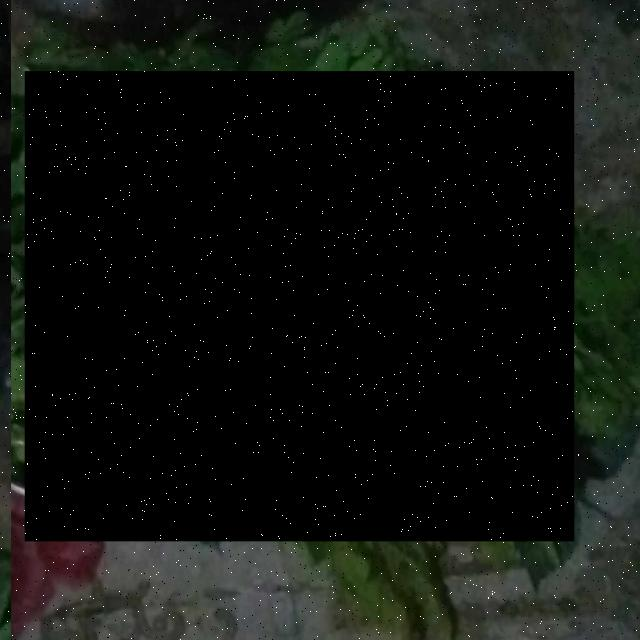Moringa_Leaves: (25, 72, 575, 542)
